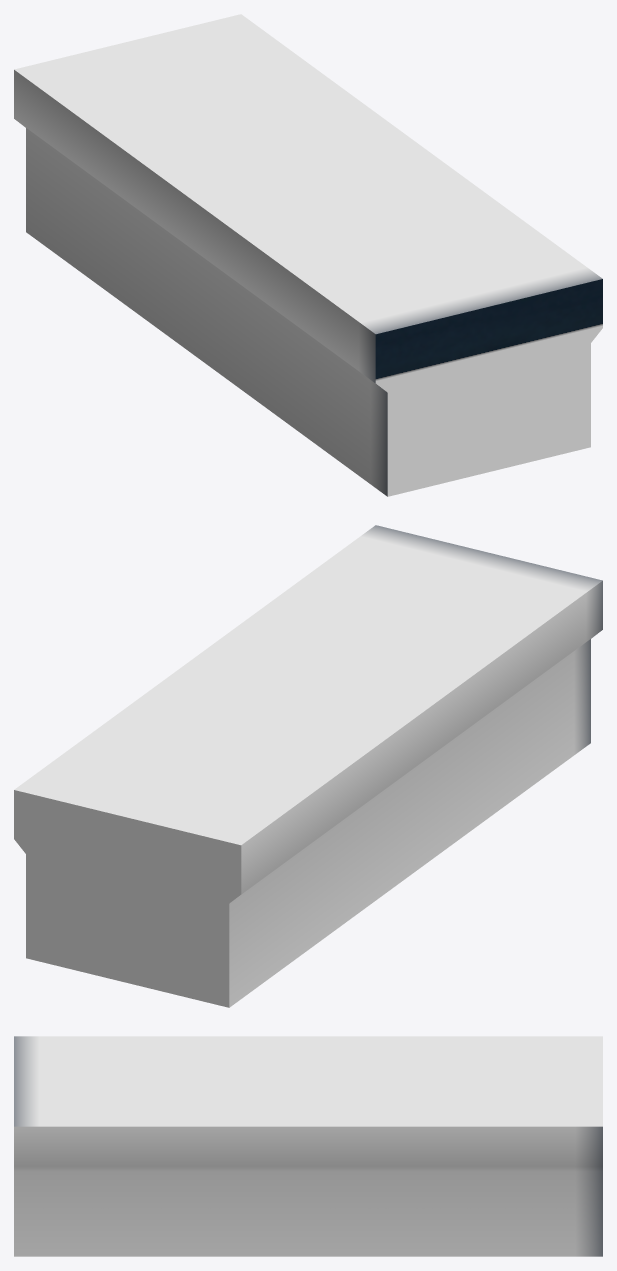
Rendered from Monolito_02_ACTIVATOR.fbx.
3 renders of one model, top to bottom at view 1: azimuth 30°, elevation 25°; view 2: azimuth 150°, elevation 25°; view 3: azimuth 270°, elevation 25°, orthographic. The views are drawn at different scales.
Parts seen in each view (by area): view 1: Icono_Monolito_02; view 2: Icono_Monolito_02; view 3: Icono_Monolito_02.
Boxes of the visible parts, x1,y1,x2,y2 form: Icono_Monolito_02: (14,14,602,496); Icono_Monolito_02: (14,525,602,1007); Icono_Monolito_02: (14,1036,602,1256).
Size of the model in its own units: 2.22 by 1.55 by 6.13.
